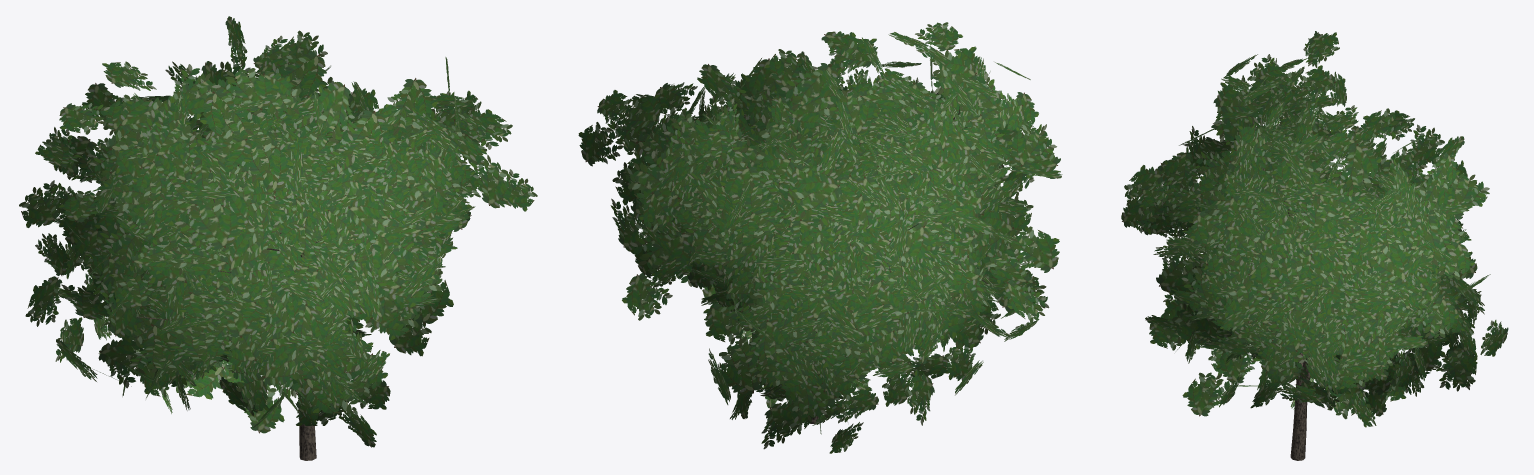
The model's file is HO1_HolmOak_Young_3m.glb.
The picture shows the model from 3 angles, left to right: view 1: azimuth 30°, elevation 25°; view 2: azimuth 150°, elevation 25°; view 3: azimuth 270°, elevation 25°; orthographic projection. The views are drawn at different scales.
Parts seen in each view (by area): view 1: HO1_leaves, HO1_wood; view 2: HO1_leaves; view 3: HO1_leaves, HO1_wood.
Part boxes in pixels (<box>): HO1_leaves: <box>19,16,537,447</box>; HO1_wood: <box>103,161,321,460</box>; HO1_leaves: <box>578,22,1062,453</box>; HO1_leaves: <box>1121,31,1508,427</box>; HO1_wood: <box>1210,111,1344,460</box>.
Bounding box in the file's own units: 3.49 × 3 × 3.13.
Materials: 2 (2 with a texture image).
